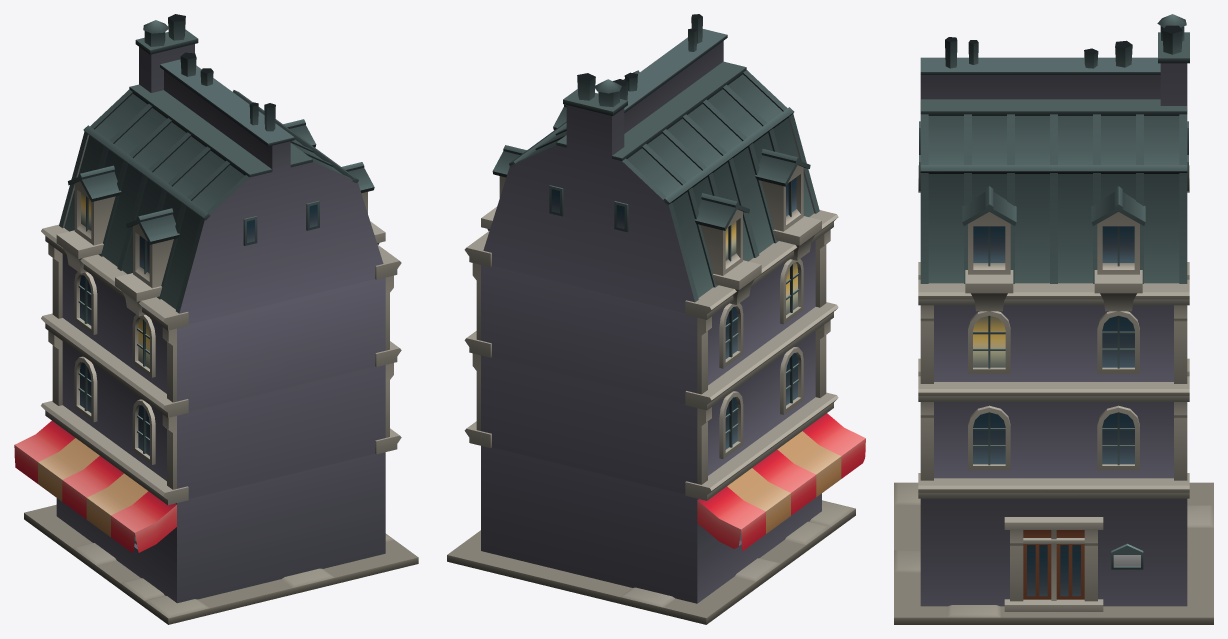
Rendered from Building_2A.fbx.
The picture shows the model from 3 angles, left to right: view 1: azimuth 30°, elevation 25°; view 2: azimuth 150°, elevation 25°; view 3: azimuth 270°, elevation 25°; orthographic projection. The views are drawn at different scales.
Visible parts, largest first — view 1: Building_2A, Shed_2A, Window_Lights_2A; view 2: Building_2A, Shed_2A, Window_Lights_2A; view 3: Building_2A, Window_Lights_2A.
Boxes of the visible parts, bbox=[...] form: Building_2A: bbox=[24, 14, 418, 624]; Shed_2A: bbox=[14, 421, 176, 552]; Window_Lights_2A: bbox=[81, 193, 149, 536]; Building_2A: bbox=[447, 14, 855, 624]; Shed_2A: bbox=[697, 413, 865, 551]; Window_Lights_2A: bbox=[725, 221, 797, 533]; Building_2A: bbox=[894, 14, 1213, 624]; Window_Lights_2A: bbox=[973, 316, 1005, 367].
Size of the model in its own units: 1303 by 2224 by 1200.
